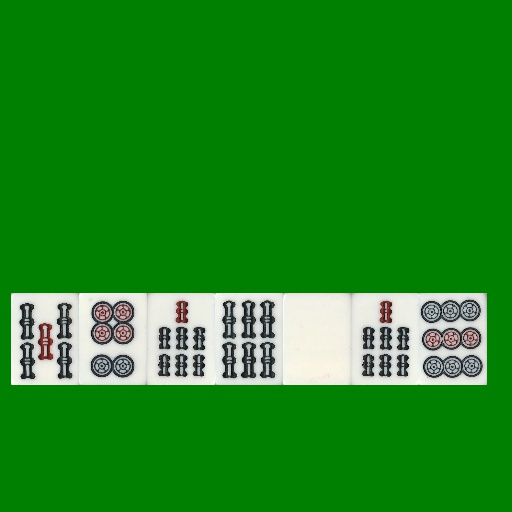5s: (11, 293, 79, 385)
6p: (79, 293, 147, 385)
6s: (215, 293, 283, 385)
7s: (147, 293, 215, 385), (351, 293, 419, 385)
9p: (419, 293, 487, 385)
white: (283, 293, 351, 385)
